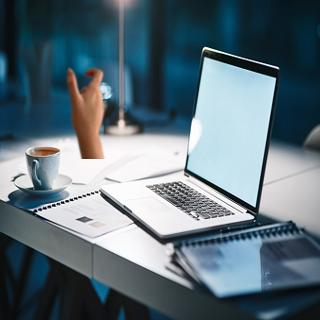Irritated: (63, 64, 112, 153)
